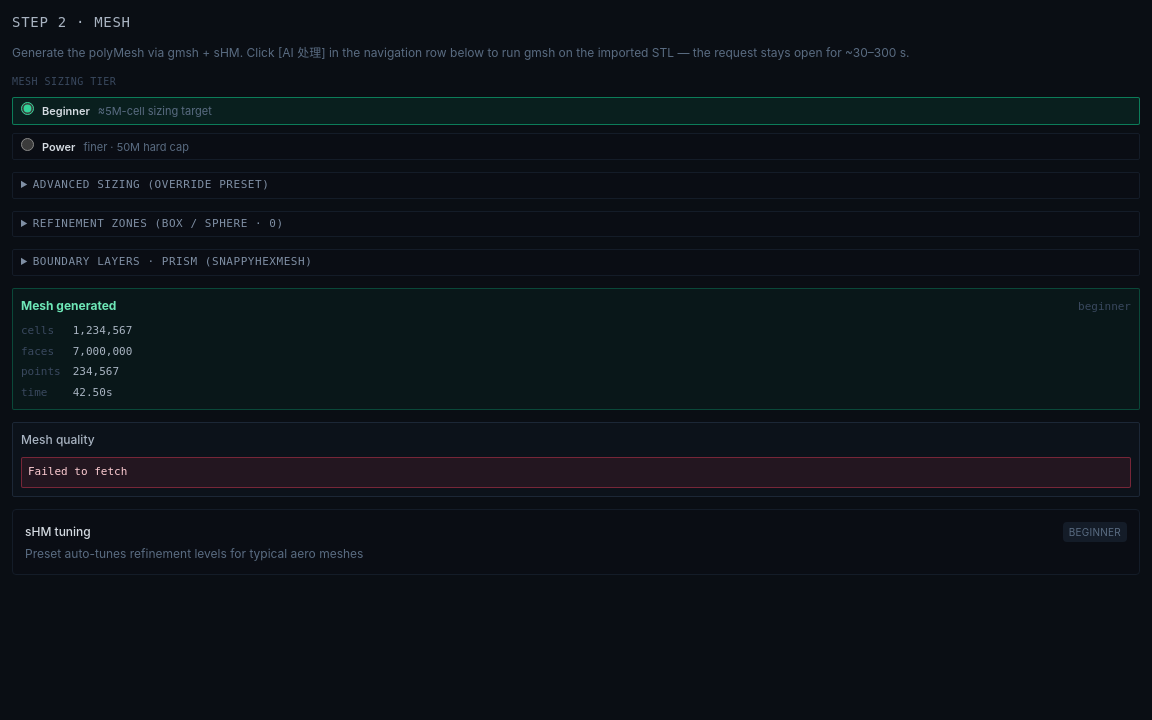
Test: Step2Mesh · wired body › renders a structured rejection on backend prism failure
This screenshot has width=1152, height=720.
Click the heading "Boundary layers · prism (snappyHexMesh)": (172, 262) [33,255,312,268]
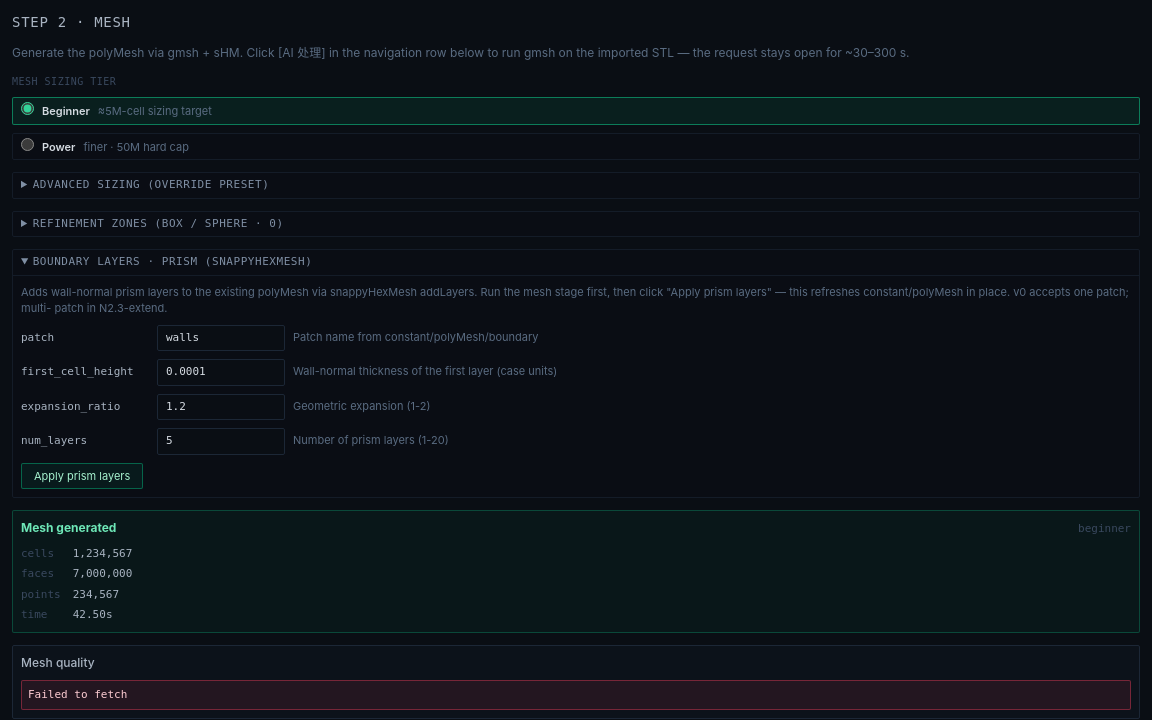
Click the button with test id "step2-mesh-prism-apply": (82, 476) [21,462,143,489]
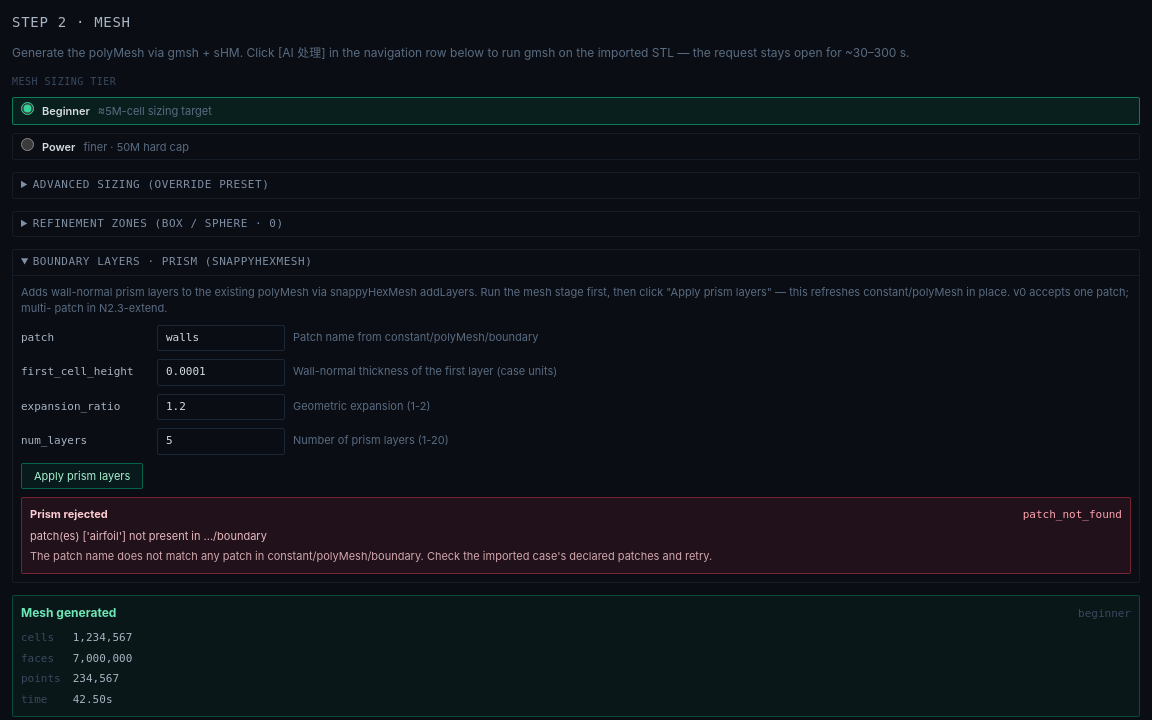
Expected: the element with test id "step2-mesh-prism-rejection" shows "patch_not_found", [1023,508,1122,521]
Expected: the element with test id "step2-mesh-prism-rejection" shows "does not match any patch", [30,549,712,563]
